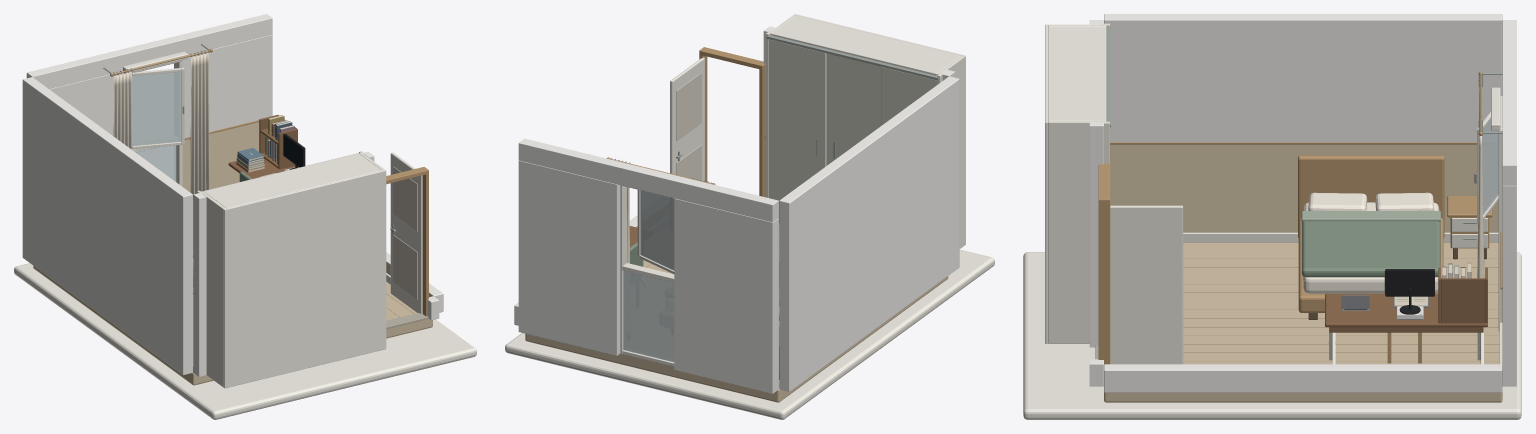
File: room-07.glb
3 views of the same model, side by side, from view 1: azimuth 30°, elevation 25°; view 2: azimuth 150°, elevation 25°; view 3: azimuth 270°, elevation 25° (orthographic). The views are drawn at different scales.
Visible parts, largest first — view 1: Architecture, Wardrobe, Entrance, Window, Curtains, Desk, Books, Monitor; view 2: Architecture, Wardrobe, Window, Entrance, Curtains; view 3: Architecture, Bed, Wardrobe, Entrance, Desk, Window, Bedside, Monitor, Curtains, Books, Laptop.
Part boxes in pixels (box(x1,y1,x2,y2)): Architecture: box(14, 14, 476, 419); Wardrobe: box(197, 151, 386, 388); Entrance: box(386, 152, 428, 329); Window: box(123, 51, 187, 186); Curtains: box(103, 44, 212, 200); Desk: box(228, 115, 297, 178); Books: box(236, 115, 294, 176); Monitor: box(283, 133, 305, 169); Architecture: box(505, 26, 994, 419); Wardrobe: box(765, 14, 965, 248); Window: box(620, 185, 674, 366); Entrance: box(670, 47, 765, 196); Curtains: box(607, 157, 715, 263); Architecture: box(1023, 14, 1521, 419); Bed: box(1298, 155, 1444, 319); Wardrobe: box(1045, 23, 1110, 343); Entrance: box(1095, 163, 1183, 364); Desk: box(1325, 267, 1487, 364); Window: box(1474, 87, 1502, 331); Bedside: box(1447, 196, 1492, 259); Monitor: box(1385, 269, 1434, 314); Curtains: box(1477, 71, 1502, 278); Books: box(1393, 262, 1471, 307); Laptop: box(1341, 295, 1369, 310).
Size of the model in its own units: 4.18 by 3.03 by 5.5.
